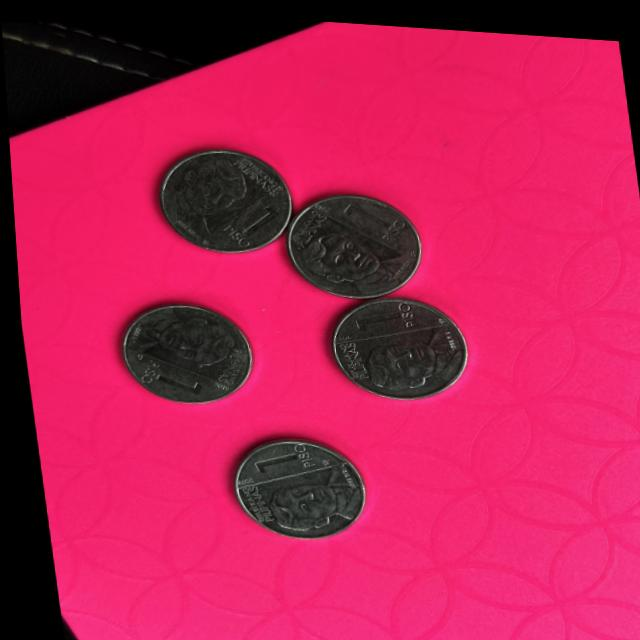1_New_Front: (331, 188, 407, 248), (130, 351, 208, 403), (344, 291, 421, 334), (344, 295, 421, 334), (214, 202, 279, 248), (244, 435, 313, 476)
